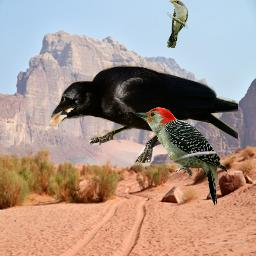Crow: (48, 64, 238, 164)
Cuckoo: (167, 0, 188, 48)
Woodpecker: (134, 107, 227, 206)
